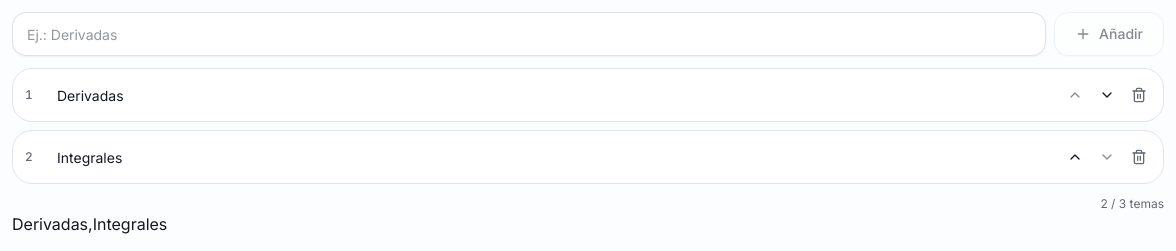
Scenario: <TopicEditor /> › elimina un tema
Click the button named "Eliminar Derivadas" at (1139, 95), box [1123,79,1155,111]
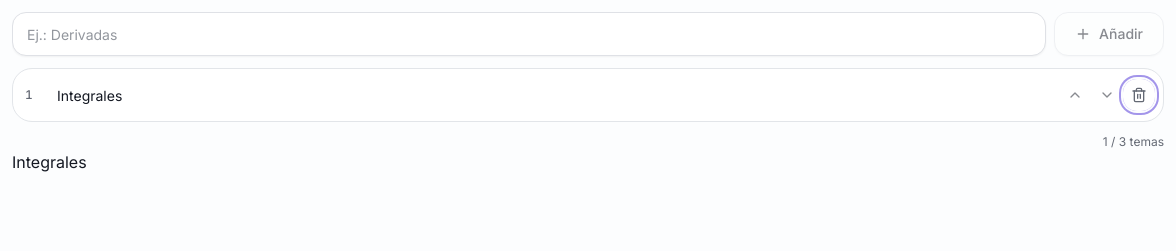
Expected: the text with test id "orden" reads "Integrales", [12,152,87,172]
